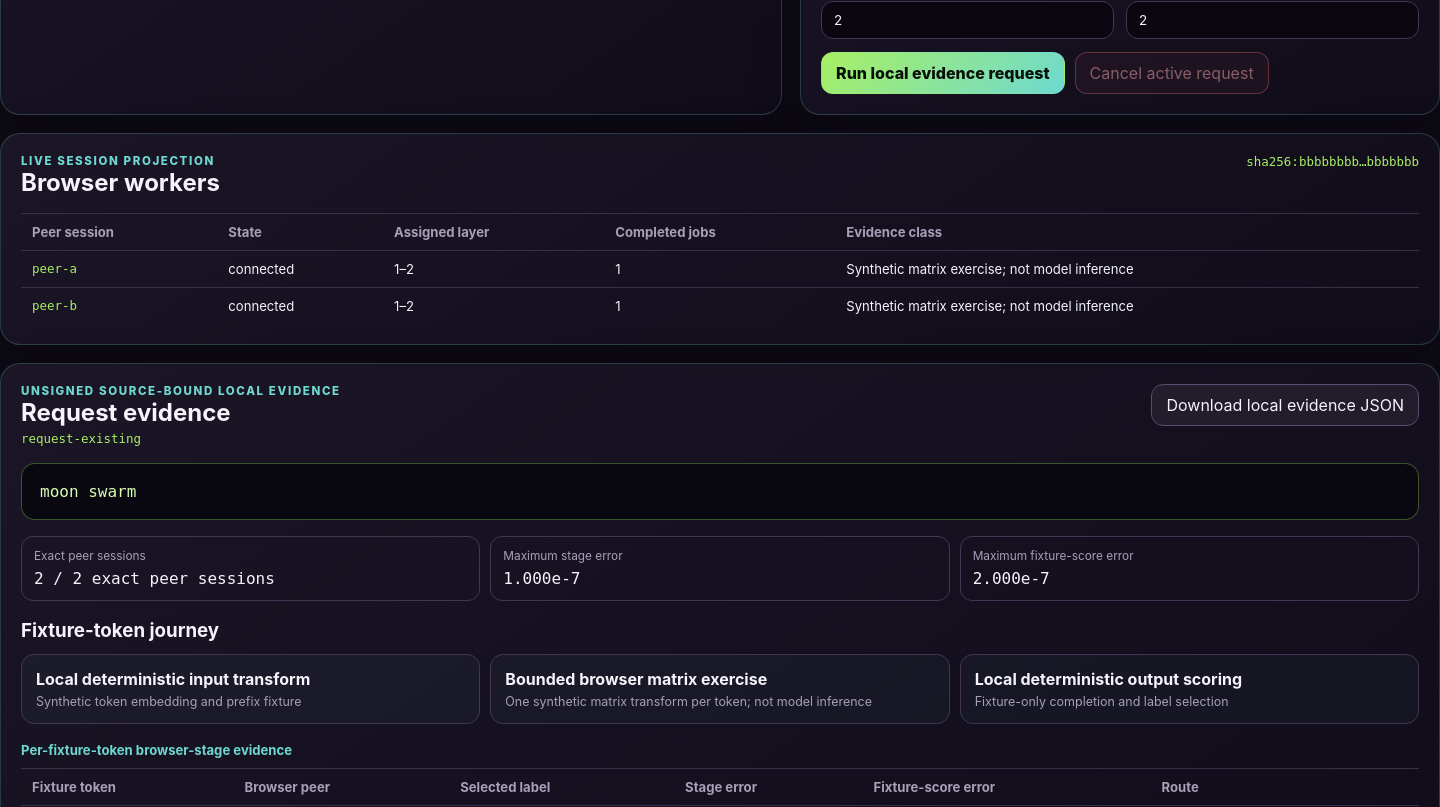
Test: DeviceLabWorkspace › downloads only the selected unsigned local evidence JSON
The width and height of the screenshot is (1440, 807).
(page scrolled)
Check: the text "moon swarm" is shown, box [21,463,1419,520]
Step 1. Click the button "Download local evidence JSON" → (1285, 405), box [1152,384,1419,426]
(page scrolled)
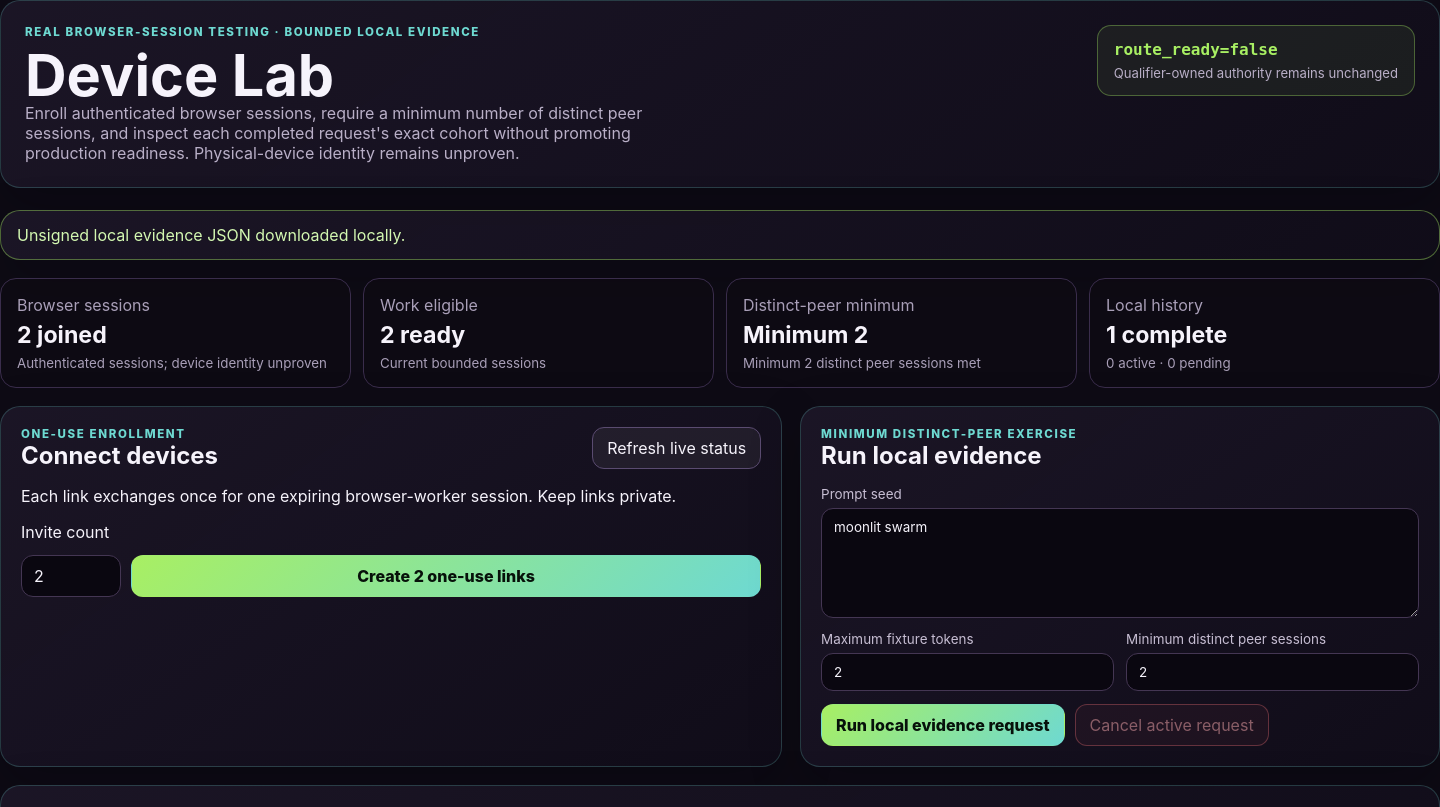
Check: the message named "device lab notice" shows "downloaded locally", box [17,225,406,245]
